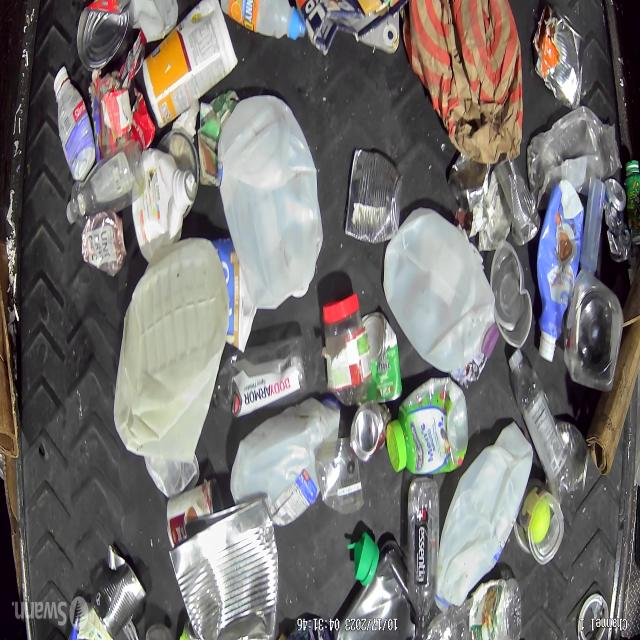can: (170, 494, 279, 639), (342, 146, 402, 244), (532, 4, 584, 110), (95, 558, 146, 639), (494, 157, 540, 246), (514, 486, 564, 566), (76, 7, 129, 72), (81, 208, 126, 280), (602, 179, 631, 263), (349, 400, 386, 464)
milk_jug: (114, 237, 230, 462), (218, 98, 320, 310), (382, 210, 493, 377), (433, 423, 532, 610), (228, 397, 341, 505)
non_white_jug: (534, 181, 586, 361)
plastic_bottle: (509, 348, 575, 504), (66, 142, 146, 226), (406, 477, 438, 632)
